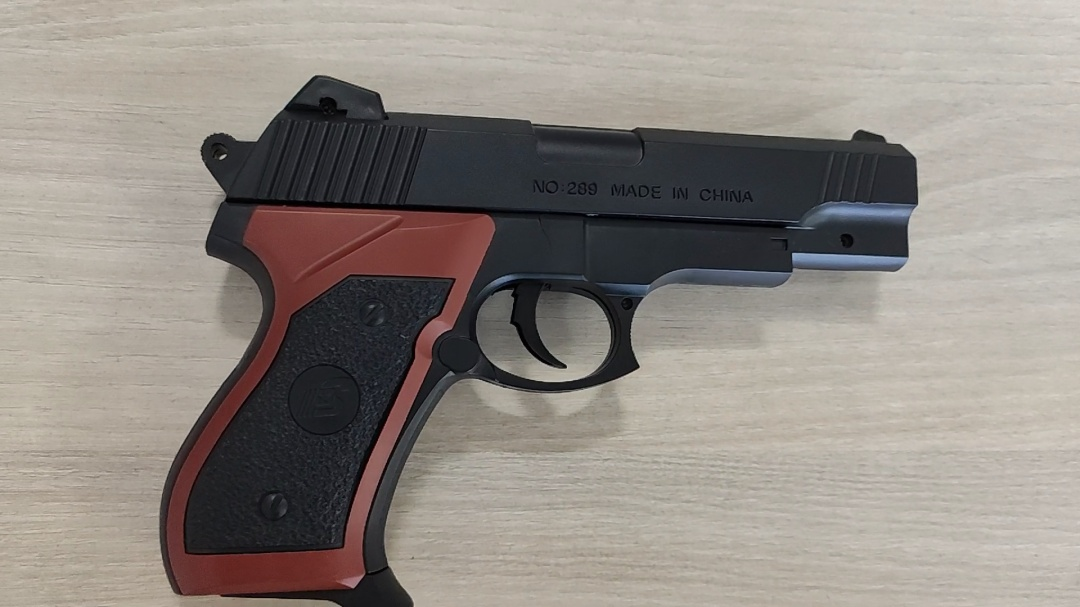gun: (599, 217, 761, 282)
